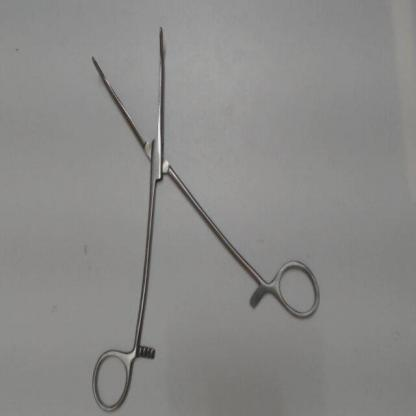Lahey Forceps: (82, 19, 330, 413)
